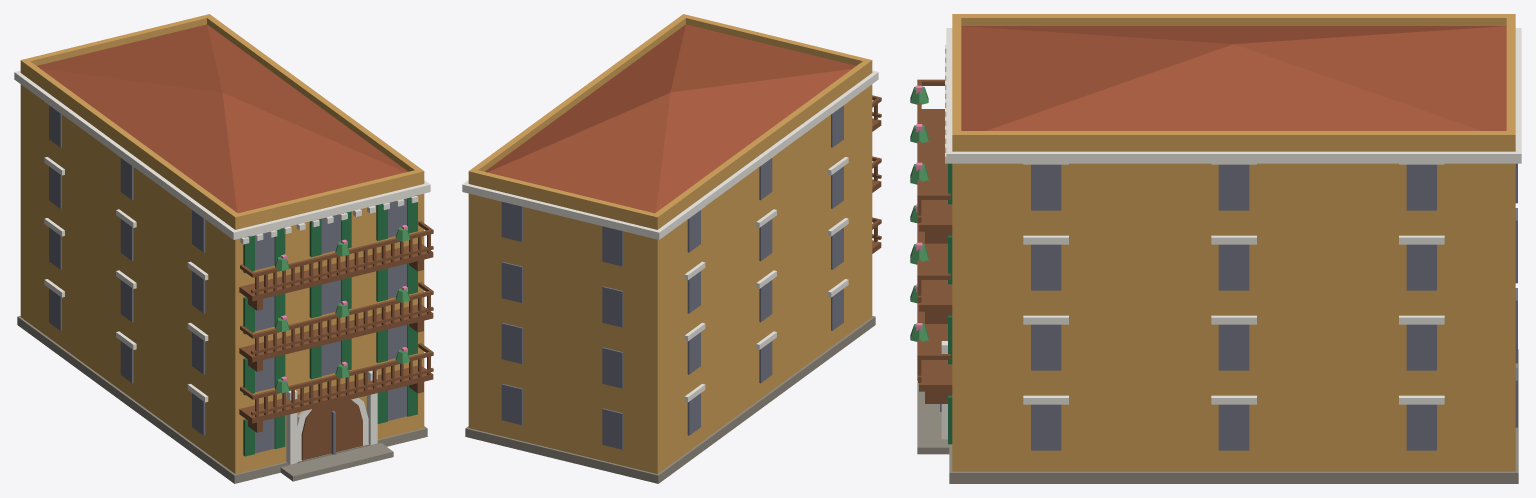
Rendered from house-1x2-4f-colonial-a.glb.
The picture shows the model from 3 angles, left to right: view 1: azimuth 30°, elevation 25°; view 2: azimuth 150°, elevation 25°; view 3: azimuth 270°, elevation 25°; orthographic projection. The views are drawn at different scales.
Parts seen in each view (by area): view 1: house-1x2-4f-colonial-a; view 2: house-1x2-4f-colonial-a; view 3: house-1x2-4f-colonial-a.
Boxes of the visible parts, left/top/right/bottom form: house-1x2-4f-colonial-a: left=14, top=14, right=433, bottom=483; house-1x2-4f-colonial-a: left=462, top=14, right=881, bottom=483; house-1x2-4f-colonial-a: left=910, top=14, right=1521, bottom=483.
Bounding box in the file's own units: 0.98 × 1.37 × 2.01.
Materials: 1 (1 with a texture image).
